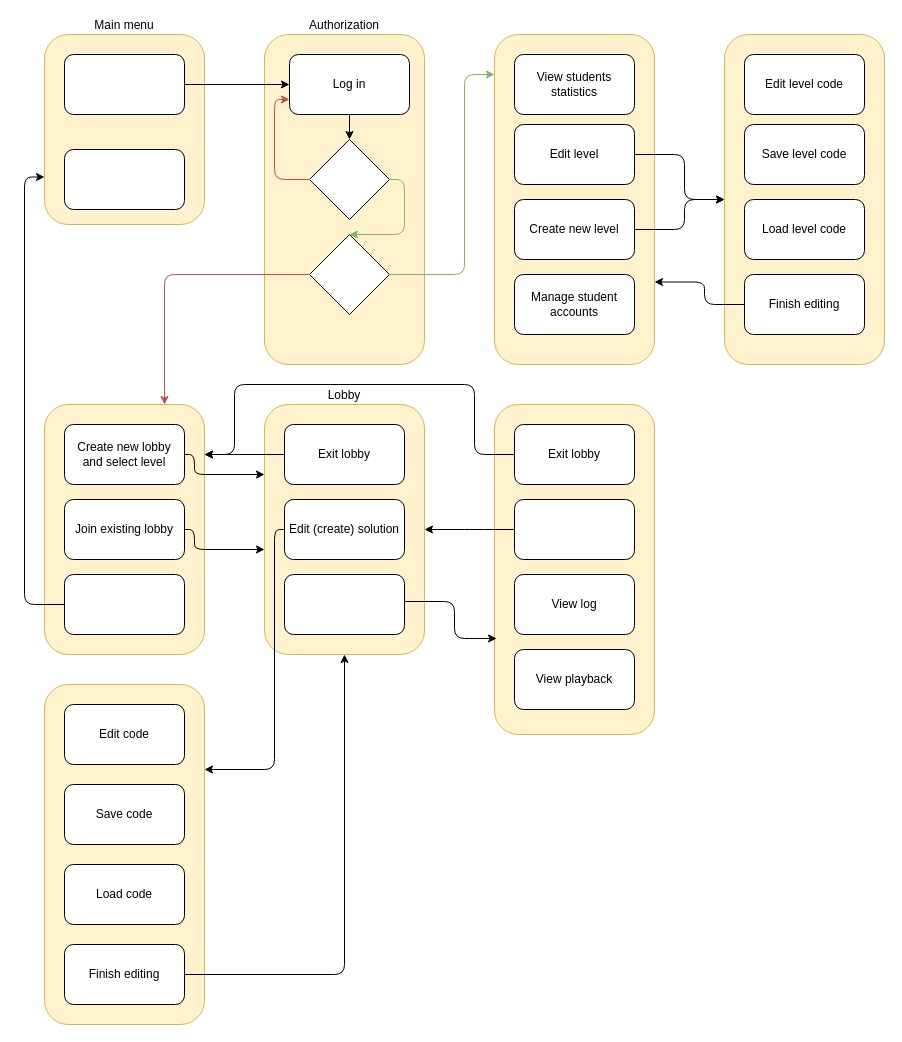
Image size: 902x1042. Some labels were removed from this diagram. Each missing label, with the box of its shape:
Code editor: (44, 684, 204, 1024)
Connect to server: (64, 54, 184, 114)
Go to main menu: (64, 574, 184, 634)
Is correct: (308, 138, 390, 220)
Is teacher: (308, 234, 390, 314)
Level editor: (724, 34, 884, 364)
List of lobbies: (44, 404, 204, 654)
New attempt: (514, 498, 634, 560)
Settings: (64, 148, 184, 210)
Simulation results: (494, 404, 654, 734)
Submit solution: (284, 574, 404, 634)
Teacher panel: (494, 34, 654, 364)
